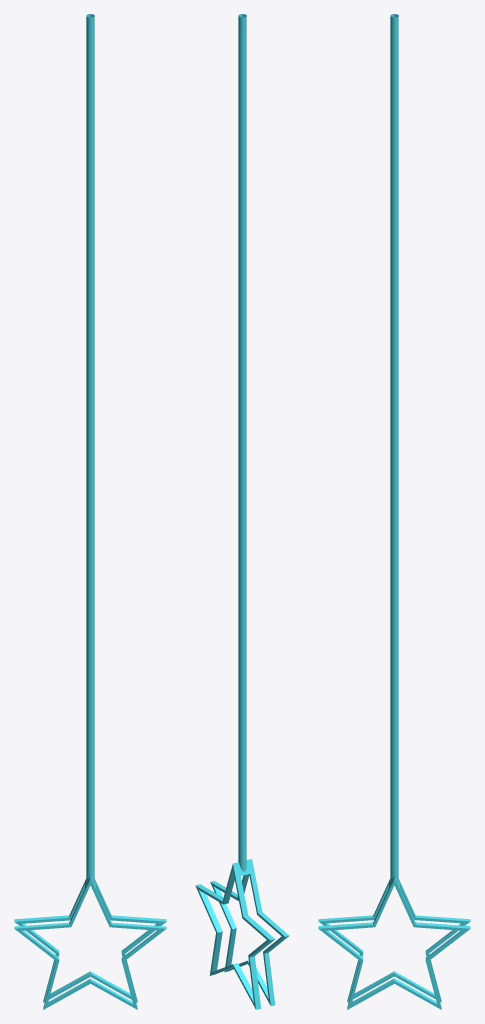
The model's file is cutter7_star.fbx.
3 views of the same model, side by side, from view 1: azimuth 90°, elevation 25°; view 2: azimuth 210°, elevation 25°; view 3: azimuth 270°, elevation 25° (orthographic).
Visible parts, largest first — view 1: Cutter7_Star; view 2: Cutter7_Star; view 3: Cutter7_Star.
Part boxes in pixels (left/top/right/bottom): Cutter7_Star: left=14, top=14, right=166, bottom=1009; Cutter7_Star: left=195, top=14, right=289, bottom=1009; Cutter7_Star: left=318, top=14, right=470, bottom=1009.
Bounding box in the file's own units: 16.77 × 814 × 114.
